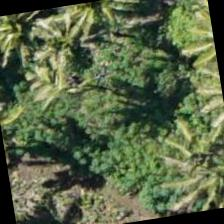Kelapa_Sawit: (146, 14, 224, 112), (0, 9, 60, 86)
